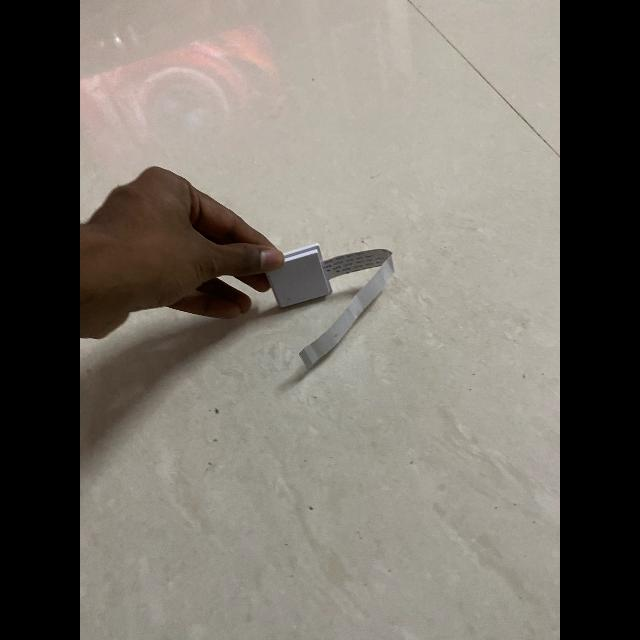RASPBERY PI CAM ENCLOSURE: (268, 242, 332, 308)
